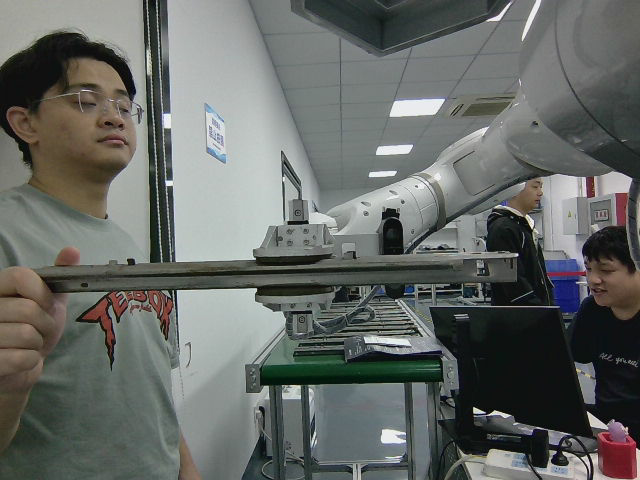up: (45, 248, 520, 294)
